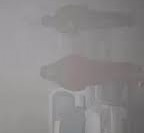person: (39, 54, 144, 92), (41, 5, 138, 36)
